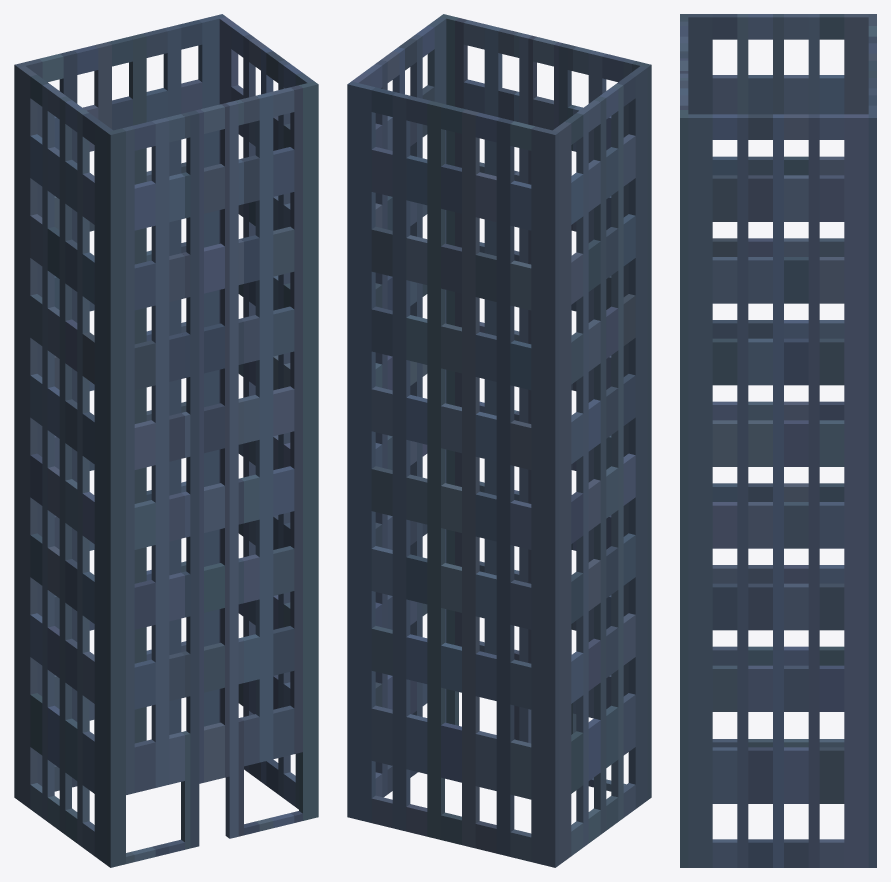
File: Apartment_Tower_Walls.glb
3 renders of one model, left to right at view 1: azimuth 30°, elevation 25°; view 2: azimuth 150°, elevation 25°; view 3: azimuth 270°, elevation 25°, orthographic. The views are drawn at different scales.
Visible parts, largest first — view 1: Apartment_Tower_Walls; view 2: Apartment_Tower_Walls; view 3: Apartment_Tower_Walls.
Boxes of the visible parts, box(x1,y1,x2,y2) form: Apartment_Tower_Walls: box(14, 14, 318, 867); Apartment_Tower_Walls: box(347, 14, 651, 867); Apartment_Tower_Walls: box(680, 14, 876, 867).
Bounding box in the file's own units: 30 × 101 × 24.
